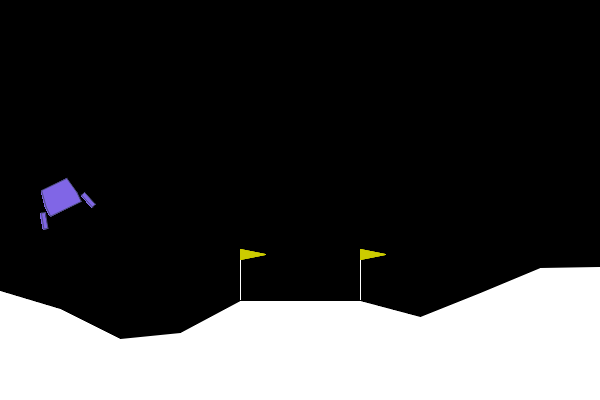lander: (26, 170, 97, 232)
